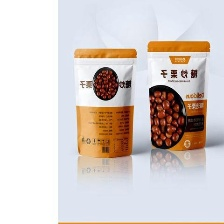snack: (142, 34, 217, 154), (68, 43, 142, 162)
